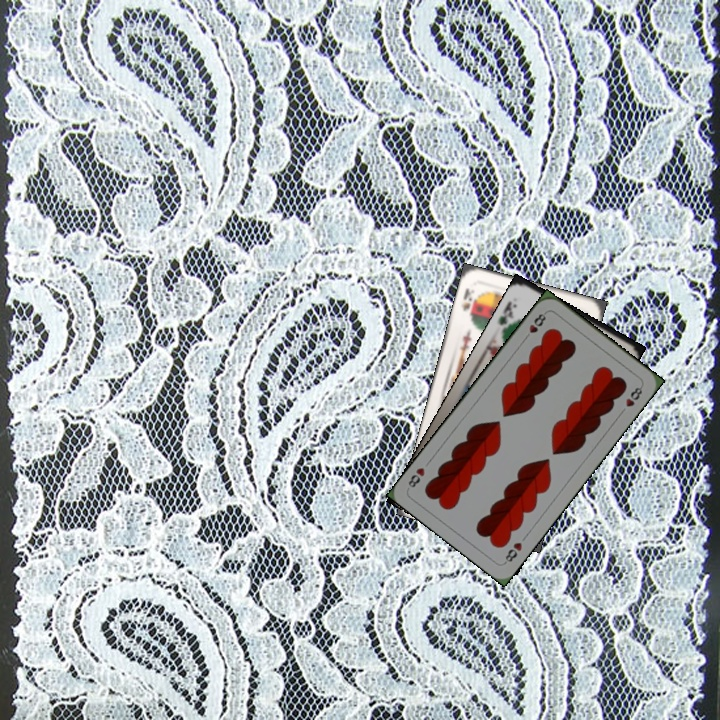GK: (494, 297, 520, 331)
H8: (520, 308, 549, 343), (500, 538, 525, 566)
SK: (458, 284, 478, 318)
